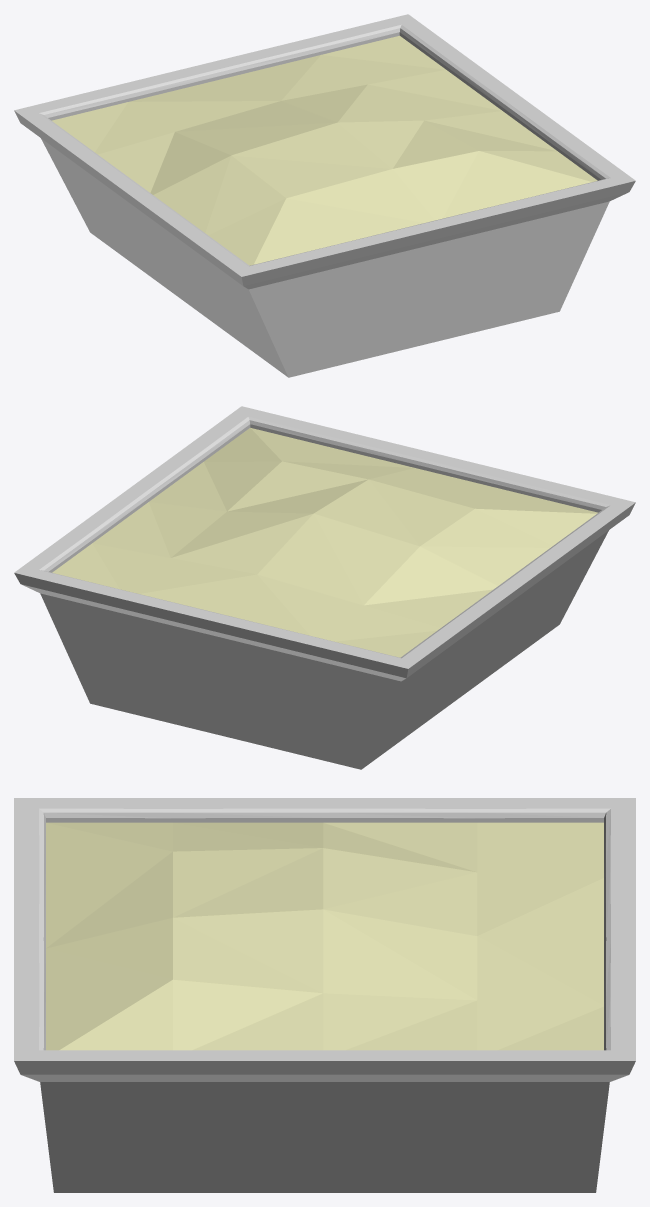
File: margaine.fbx
The picture shows the model from 3 angles, top to bottom: view 1: azimuth 30°, elevation 25°; view 2: azimuth 150°, elevation 25°; view 3: azimuth 270°, elevation 25°; orthographic projection. The views are drawn at different scales.
Visible parts, largest first — view 1: margarine; view 2: margarine; view 3: margarine.
Boxes of the visible parts, x1,y1,x2,y2 form: margarine: [14, 14, 635, 377]; margarine: [14, 406, 635, 769]; margarine: [14, 798, 635, 1192].
Size of the model in its own units: 23.52 by 8.39 by 23.52.
